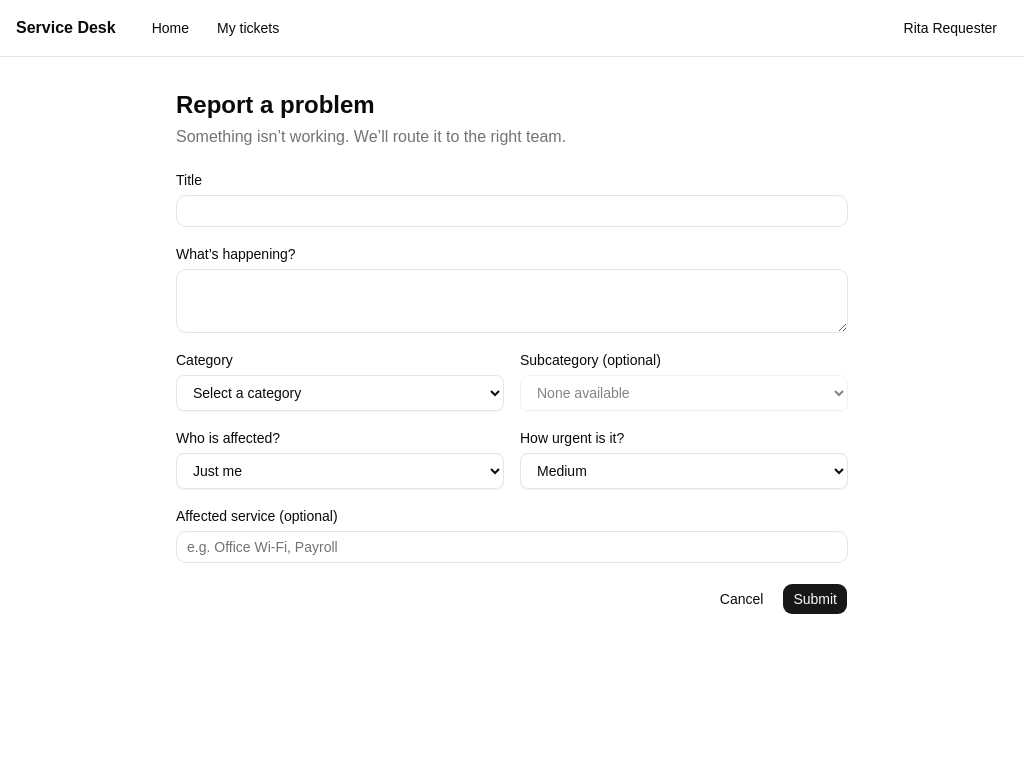
Test: report a problem › shows the server’s category rejection next to the category field
Type "Printer" into the field labelled "Title".
click(512, 211); type("Printer")  # box [176, 195, 848, 227]
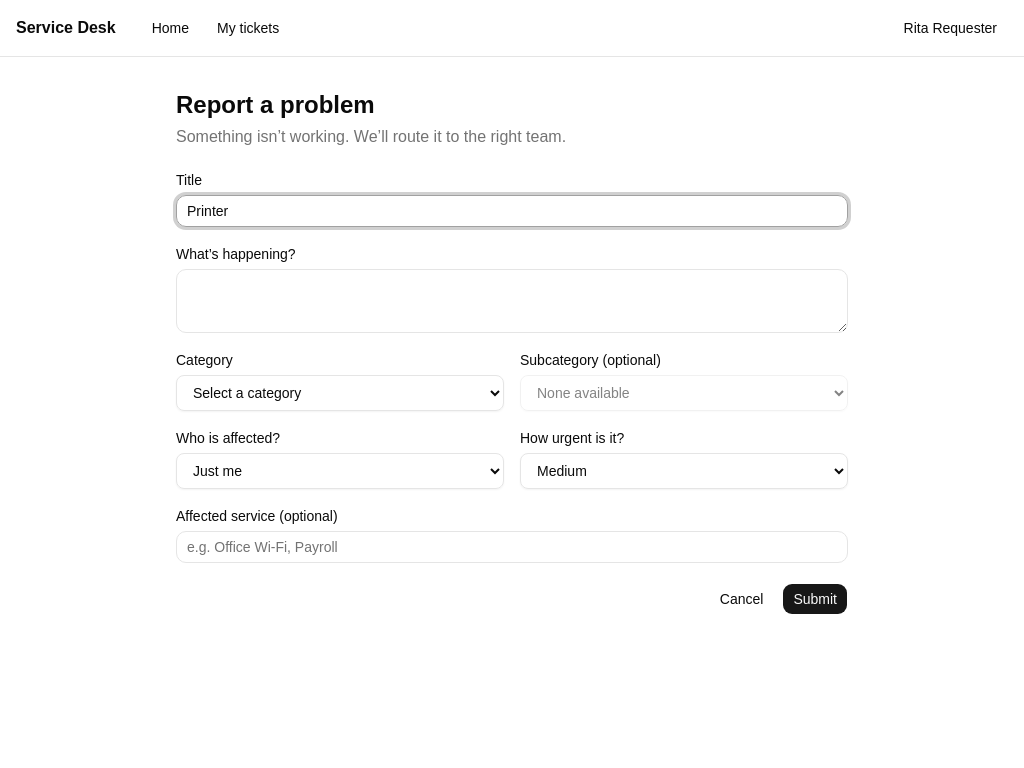
Type "Jammed" into the text box labelled "What’s happening?".
click(512, 301); type("Jammed")  # box [176, 269, 848, 333]
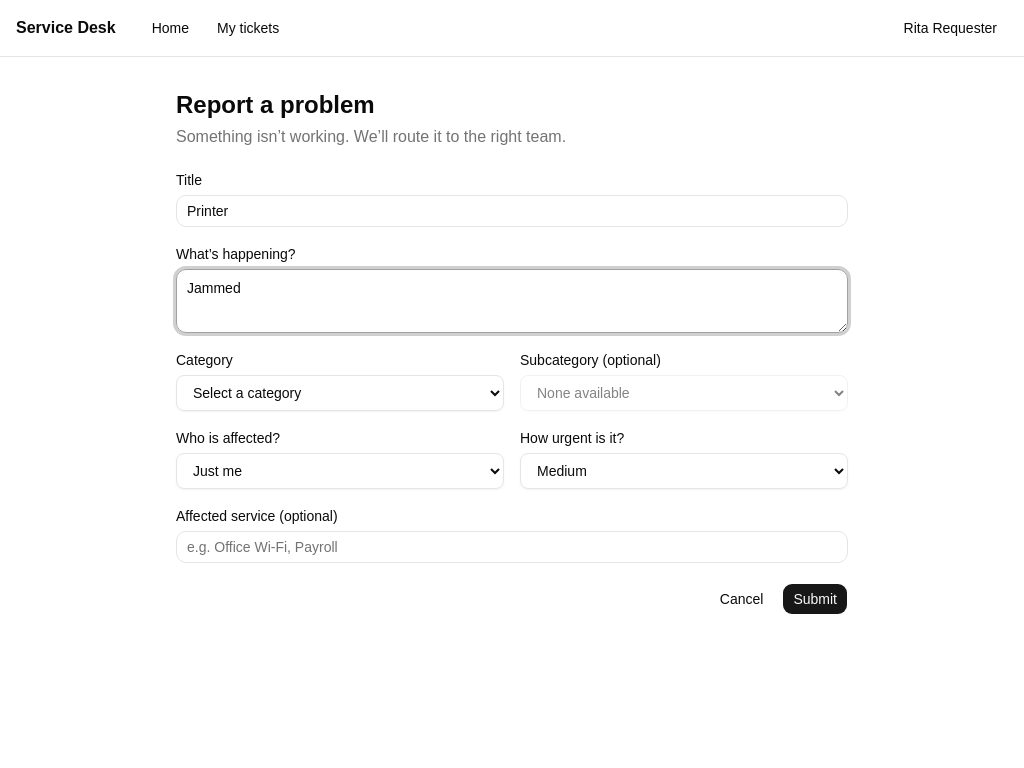
Select "Hardware" in the dropdown labelled "Category" at [340, 393], box [176, 375, 504, 411]
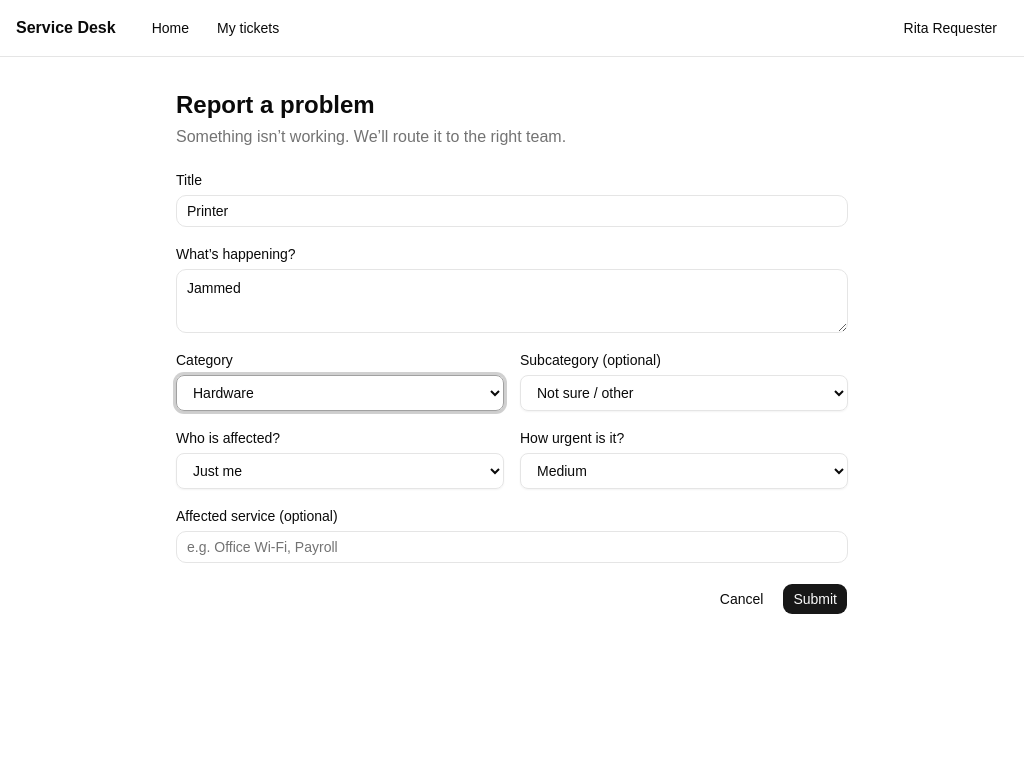
Click the button "Submit".
click(815, 599)  # box [782, 583, 848, 615]
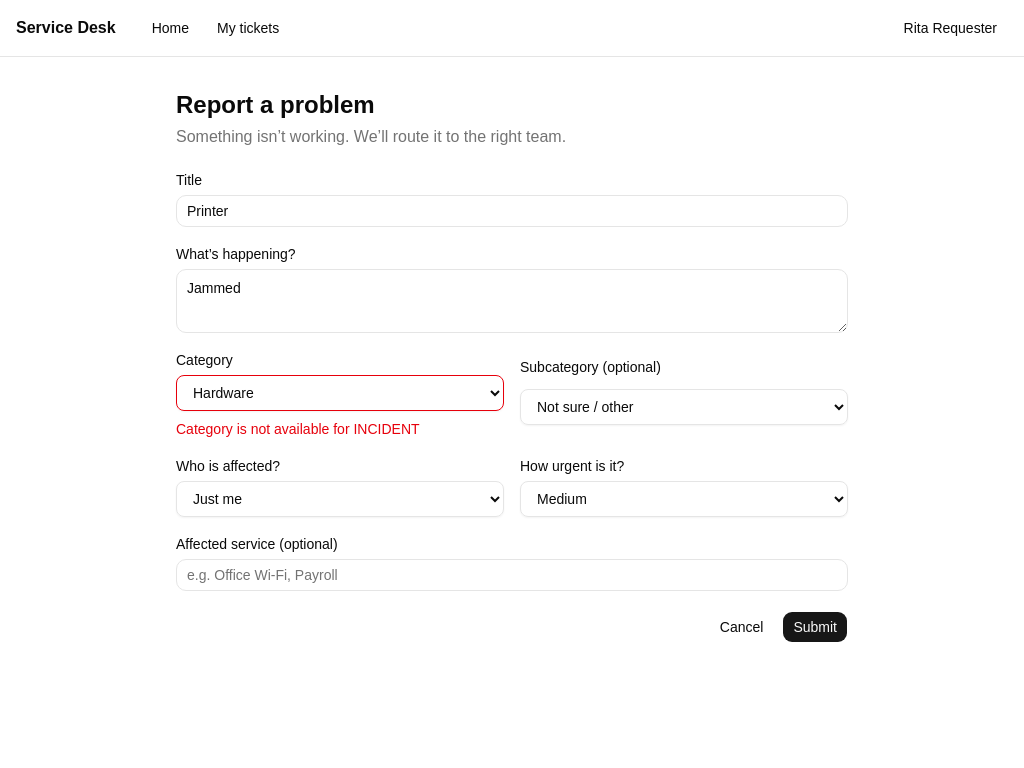
Now the text "Category is not available for INCIDENT" is shown, box [176, 421, 420, 437]
